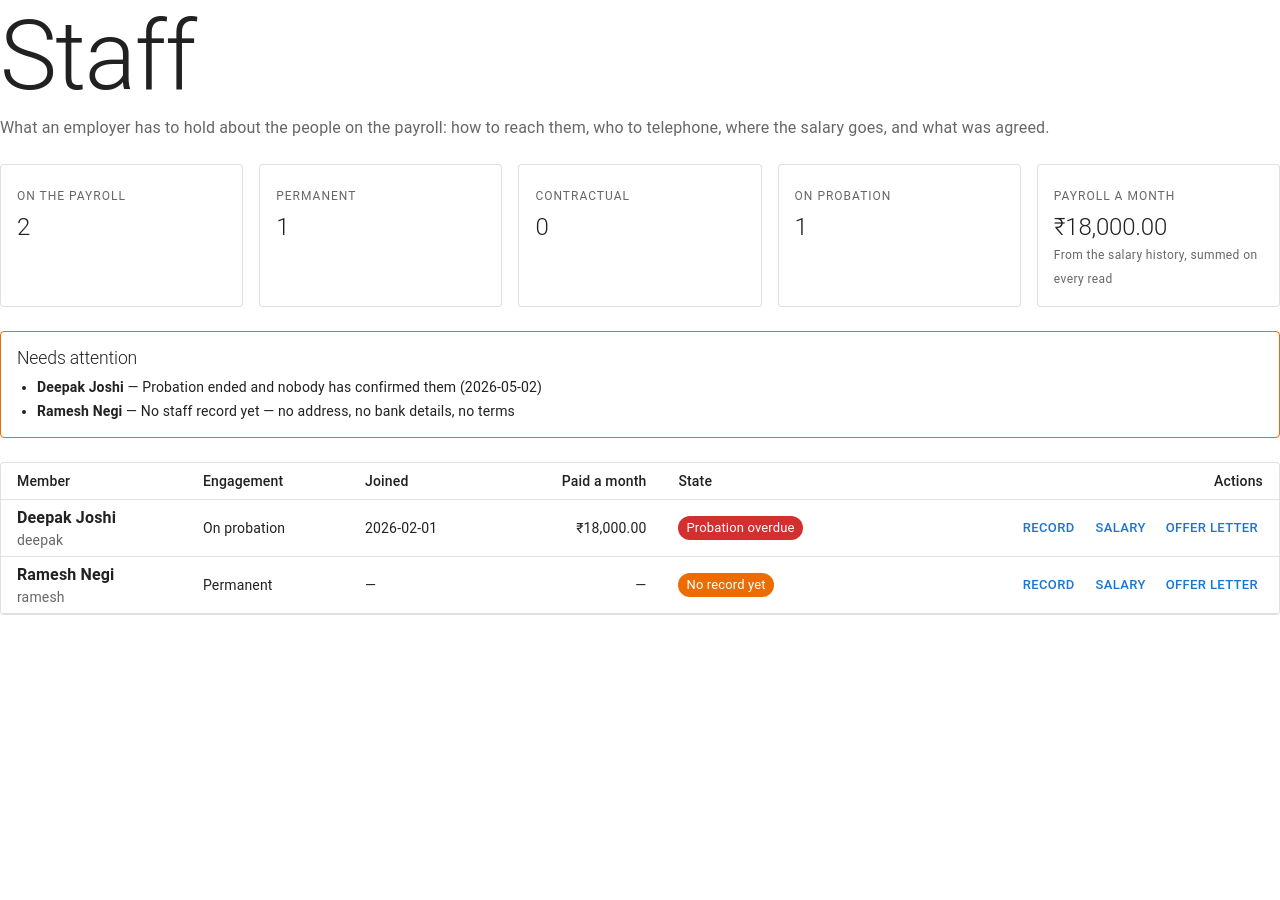
StaffPage › shows a scan as a picture and a letter as something to open
Click the button "Record" in the row of "2026-02-01": (1049, 528) [1017,512,1081,543]
(page scrolled)
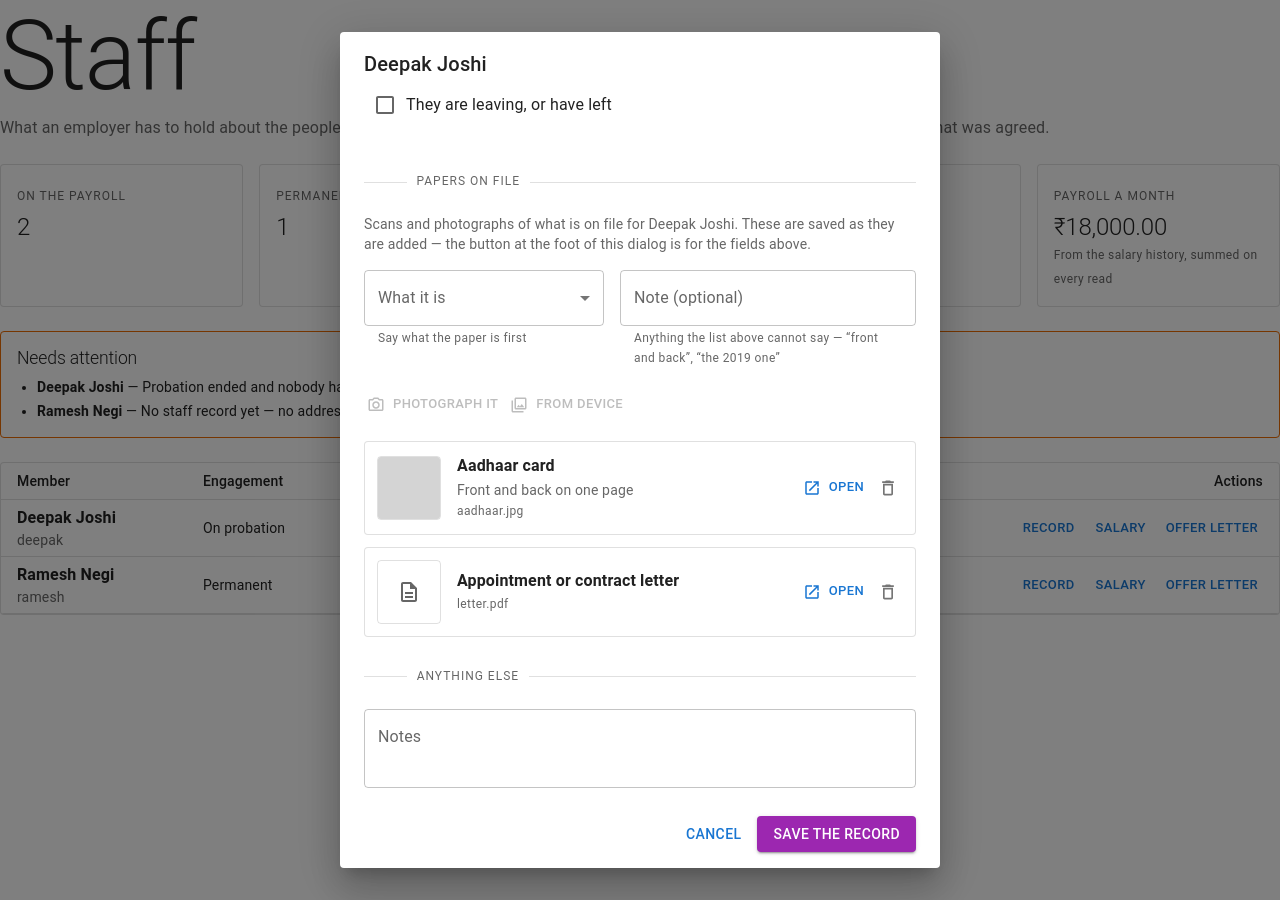
Check: the text "Front and back on one page" is shown, box [457,482,634,498]
Check: the text "Appointment or contract letter" is shown, box [457,571,679,590]
